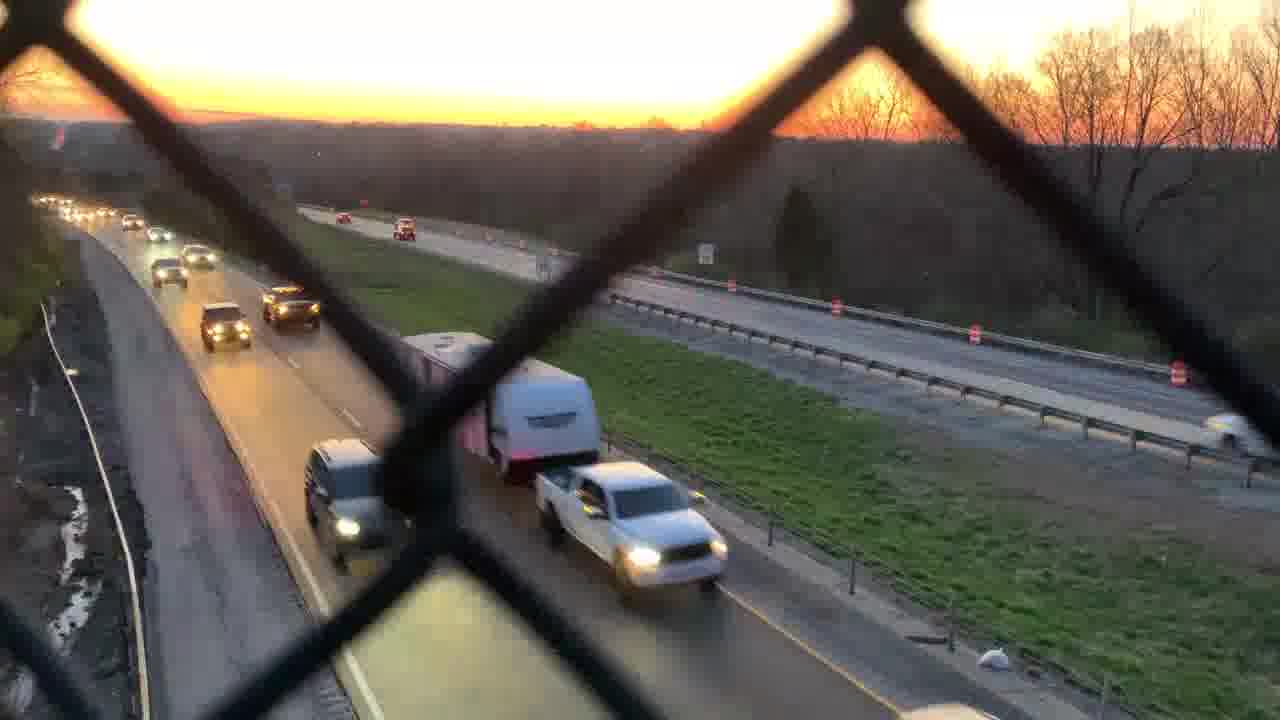largeCar: (303, 438, 412, 560), (197, 305, 258, 350)
lightTruck: (390, 329, 735, 597), (259, 280, 320, 332)
